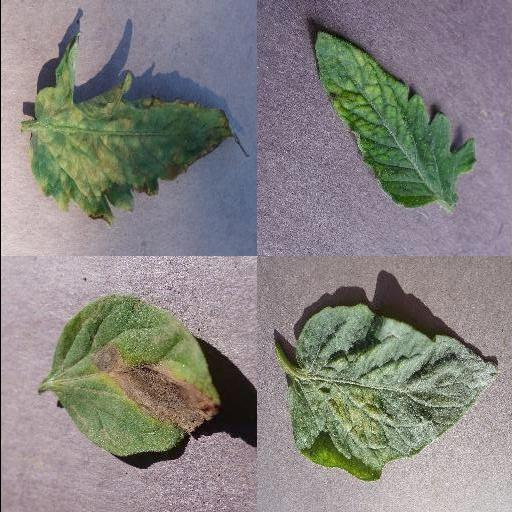Early Blight: (44, 291, 220, 457)
Leaf Mold: (27, 35, 233, 227)
Mosaic Virus: (314, 30, 478, 208)
Spider Mites: (289, 302, 499, 482)
